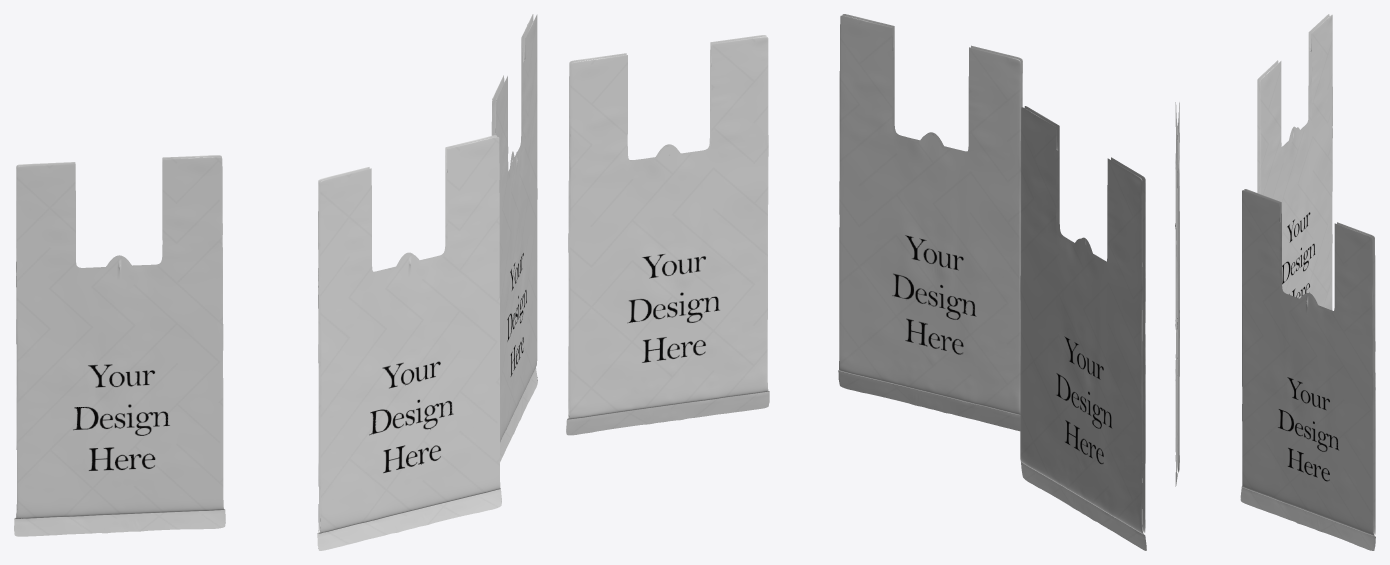
The model's file is Bio de A-6.glb.
3 renders of one model, left to right at view 1: azimuth 30°, elevation 25°; view 2: azimuth 150°, elevation 25°; view 3: azimuth 270°, elevation 25°, orthographic. The views are drawn at different scales.
Visible parts, largest first — view 1: Plane.004, Plane.003, Plane.002; view 2: Plane.002, Plane.003, Plane.004; view 3: Plane.002, Plane.004, Plane.003.
Boxes of the visible parts, x1,y1,x2,y2 form: Plane.004: (14, 155, 225, 536); Plane.003: (317, 135, 501, 550); Plane.002: (491, 14, 537, 461); Plane.002: (566, 35, 769, 435); Plane.003: (838, 14, 1022, 431); Plane.004: (1020, 106, 1146, 550); Plane.002: (1240, 189, 1375, 550); Plane.004: (1257, 14, 1332, 310); Plane.003: (1175, 102, 1179, 486).
Size of the model in its own units: 5.45 by 3.52 by 2.04.
1 material, 1 textured.
